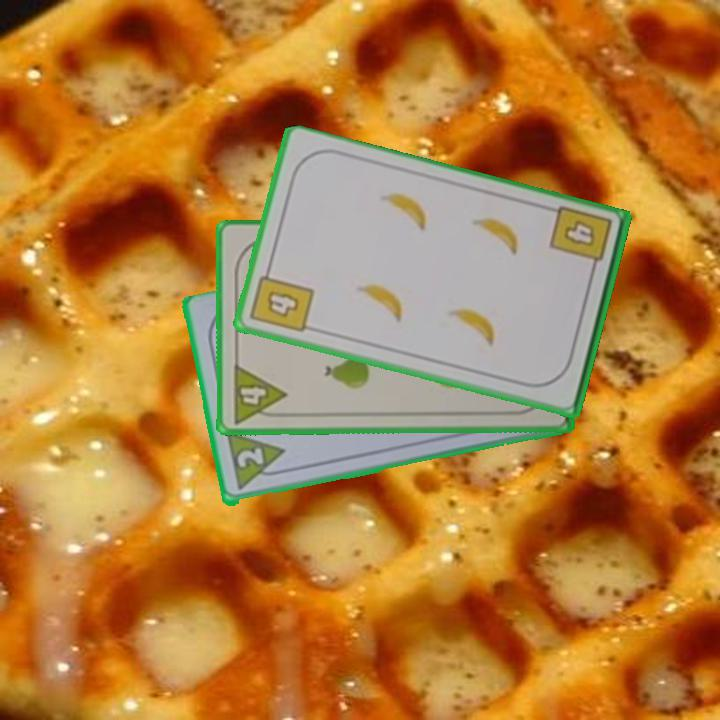2p: (233, 444, 266, 472)
4b: (546, 203, 615, 278), (247, 263, 317, 336)
4p: (229, 361, 289, 426)
